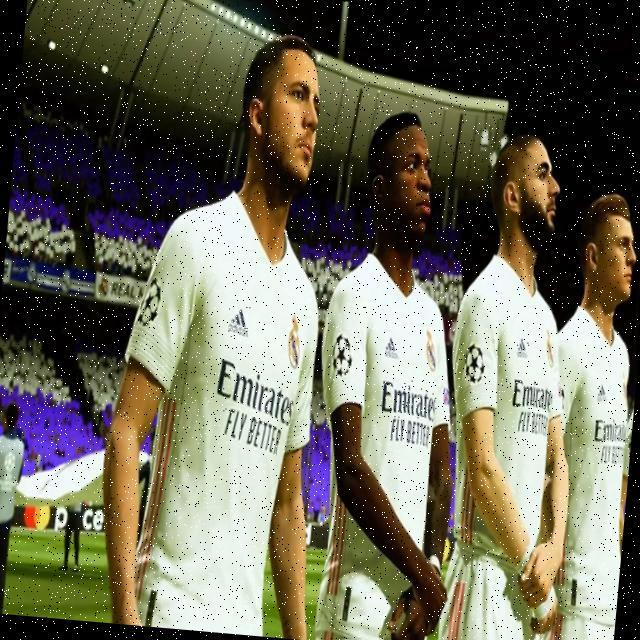Adidas: (227, 306, 250, 338), (385, 336, 401, 359), (516, 336, 530, 358), (596, 384, 608, 403)
Emirates: (213, 356, 297, 426), (379, 378, 438, 422), (511, 378, 554, 413), (593, 417, 627, 444)
